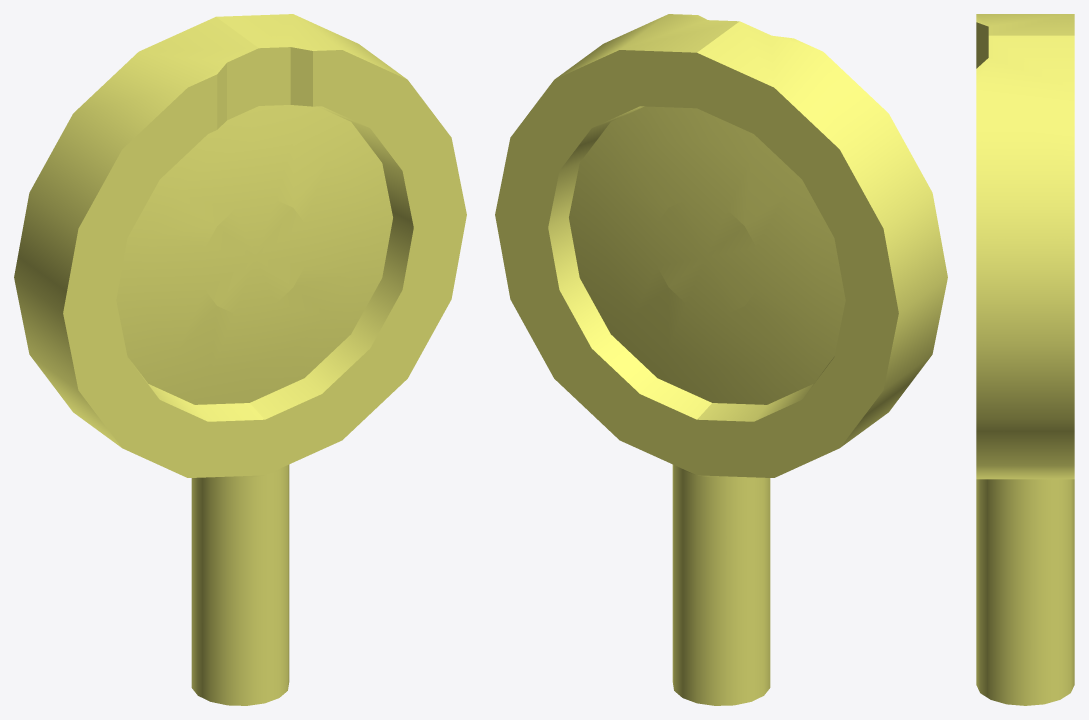
3 views of the same model, side by side, from view 1: azimuth 30°, elevation 25°; view 2: azimuth 150°, elevation 25°; view 3: azimuth 270°, elevation 25° (orthographic).
Parts seen in each view (by area): view 1: parts/s/10830s04.dat (×2), 38648.dat, parts/s/38648s01.dat; view 2: parts/s/10830s04.dat (×2), 38648.dat, parts/s/38648s01.dat; view 3: parts/s/10830s04.dat (×2), parts/s/38648s01.dat.
Part boxes in pixels (x1,y1,x2,y2): parts/s/10830s04.dat (×2): (14, 14, 466, 477); 38648.dat: (116, 105, 392, 404); parts/s/38648s01.dat: (191, 464, 289, 705); parts/s/10830s04.dat (×2): (495, 14, 947, 477); 38648.dat: (569, 106, 845, 404); parts/s/38648s01.dat: (672, 464, 770, 705); parts/s/10830s04.dat (×2): (976, 14, 1074, 479); parts/s/38648s01.dat: (976, 479, 1074, 705).
Size of the model in its own units: 0.0152 by 0.0234 by 0.0032.
